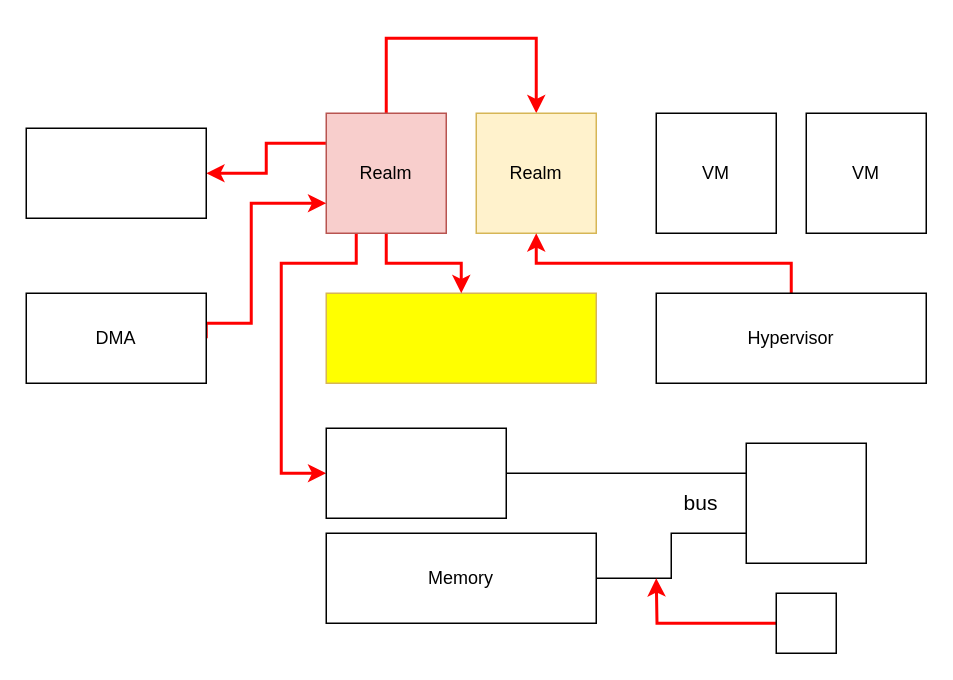
The diagram is 953 pixels wide and 680 high, and some of its shapes have lost their labels. Here are the shapes that lost their labels. From the top down, the centre of each, then its label:
(x=115, y=172): Secure Device
(x=460, y=337): RMM
(x=415, y=472): Cache
(x=805, y=502): CPU
